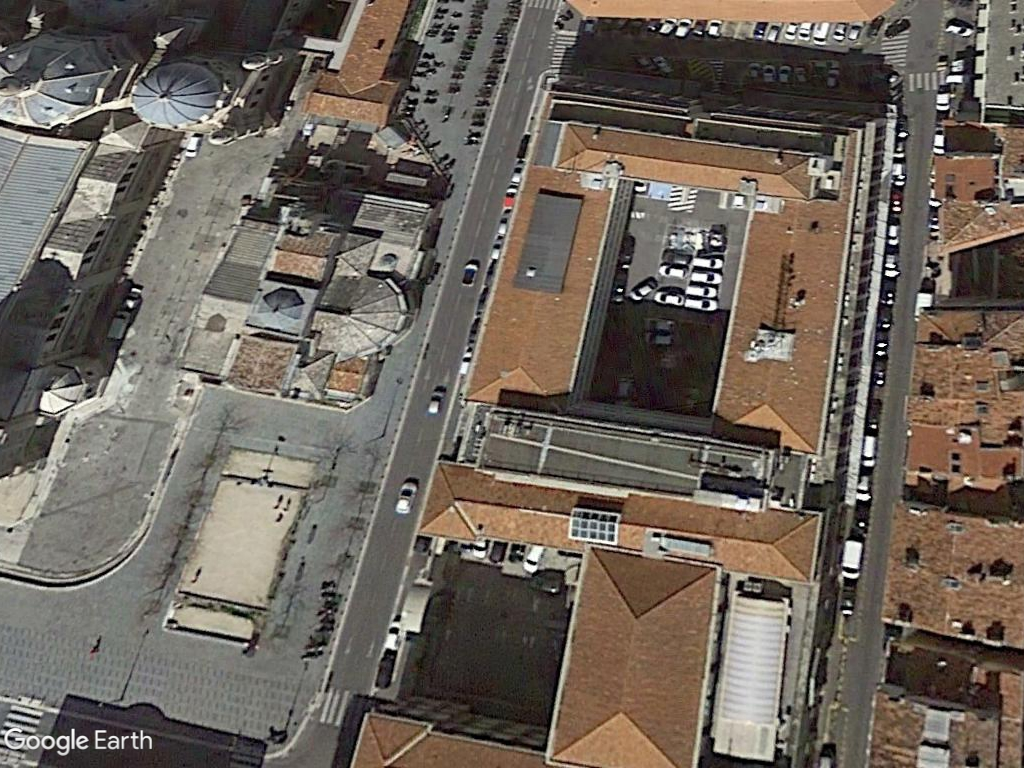car: (653, 286, 688, 306), (657, 261, 690, 280), (685, 295, 719, 313), (462, 257, 479, 290)
van: (840, 530, 865, 584)
